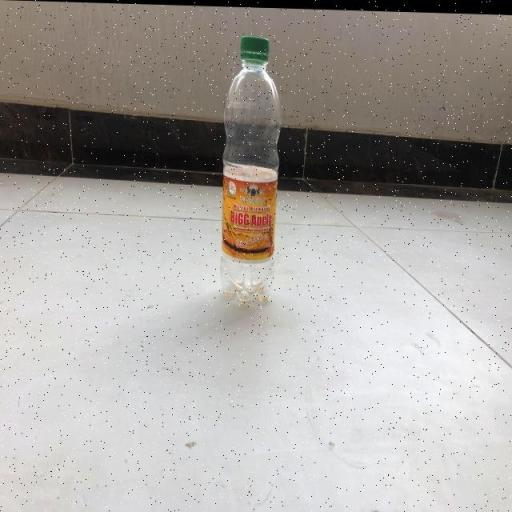plastic: (221, 31, 280, 307)
